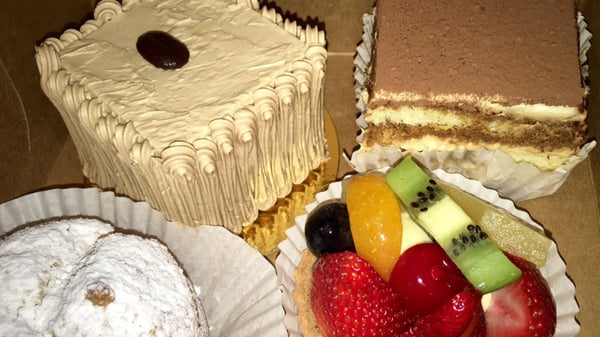soup: (350, 2, 598, 191)
